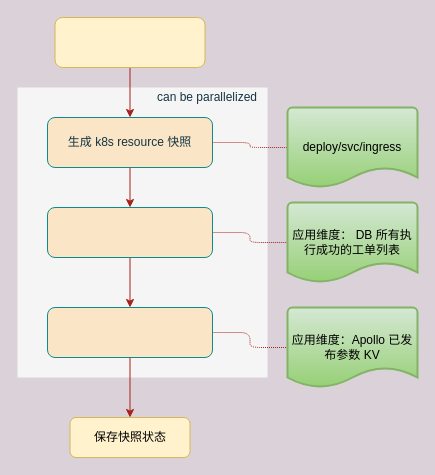
Some shapes in this 435 by 475 pixel diagram are drawn without their labels. The box of each missing label's shape, as (x1, y1, x2, y2) in pixels:
生成 PaaS 快照: (54, 16, 205, 68)
生成 SQL 审计快照: (46, 206, 212, 258)
生成配置中心快照: (46, 306, 212, 358)
